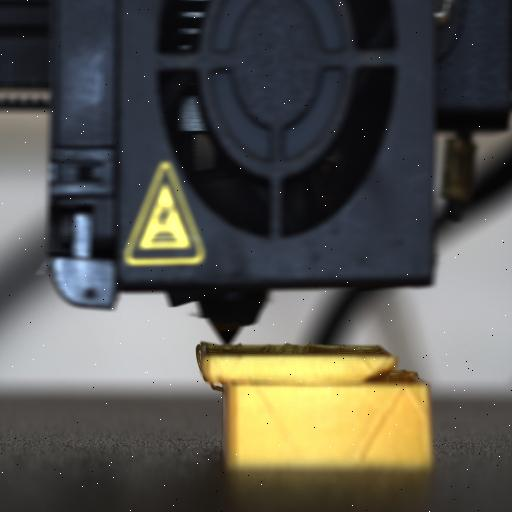layer_shift: (196, 364, 432, 396)
